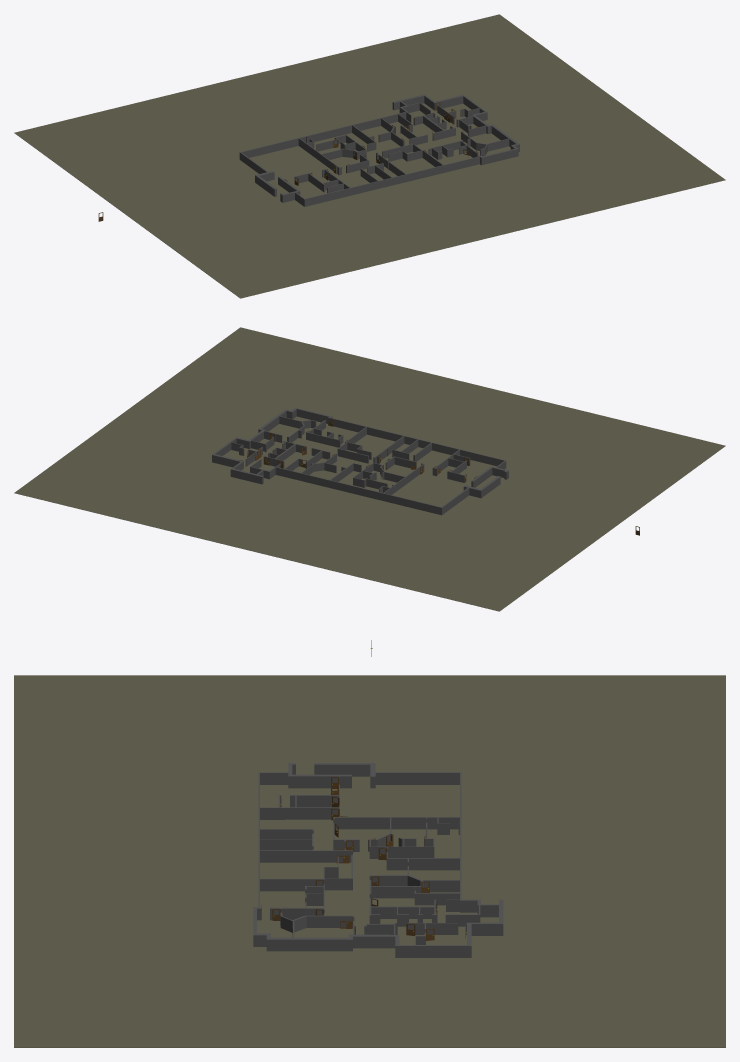
File: lab_map_v2.gltf
3 views of the same model, one above another, from view 1: azimuth 30°, elevation 25°; view 2: azimuth 150°, elevation 25°; view 3: azimuth 270°, elevation 25° (orthographic). The views are drawn at different scales.
Parts seen in each view (by area): view 1: Cube, Cube.001; view 2: Cube, Cube.001; view 3: Cube, Cube.001.
Boxes of the visible parts, <box> form: Cube: <box>14,14,725,298</box>; Cube.001: <box>239,94,519,206</box>; Cube: <box>14,327,725,611</box>; Cube.001: <box>212,407,508,515</box>; Cube: <box>14,675,725,1047</box>; Cube.001: <box>253,763,503,957</box>.
Bounding box in the file's own units: 119 × 1.97 × 91.04.
70 materials, 4 textured.
